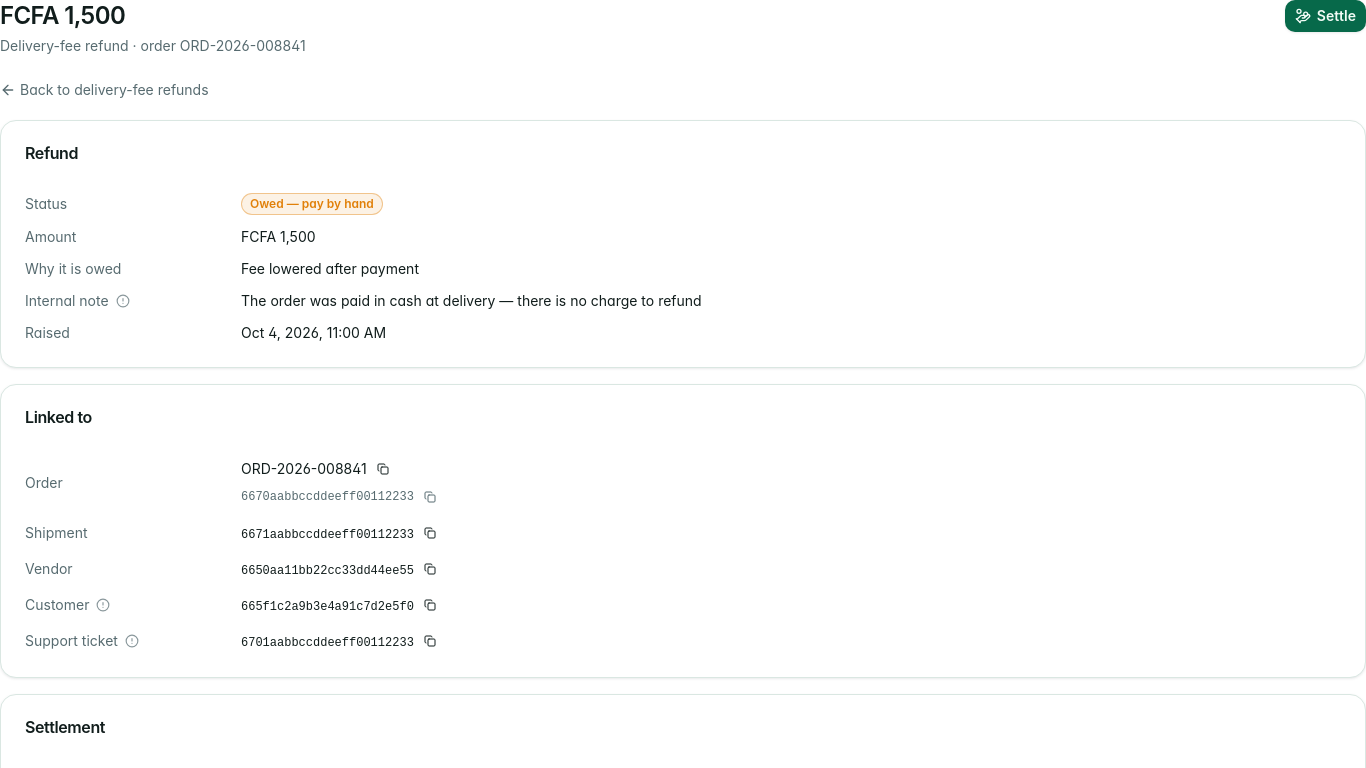
the detail › announces a remainder still owed, with a link to the new row
Click the button "Settle": click(1325, 16) [1285, 0, 1365, 32]
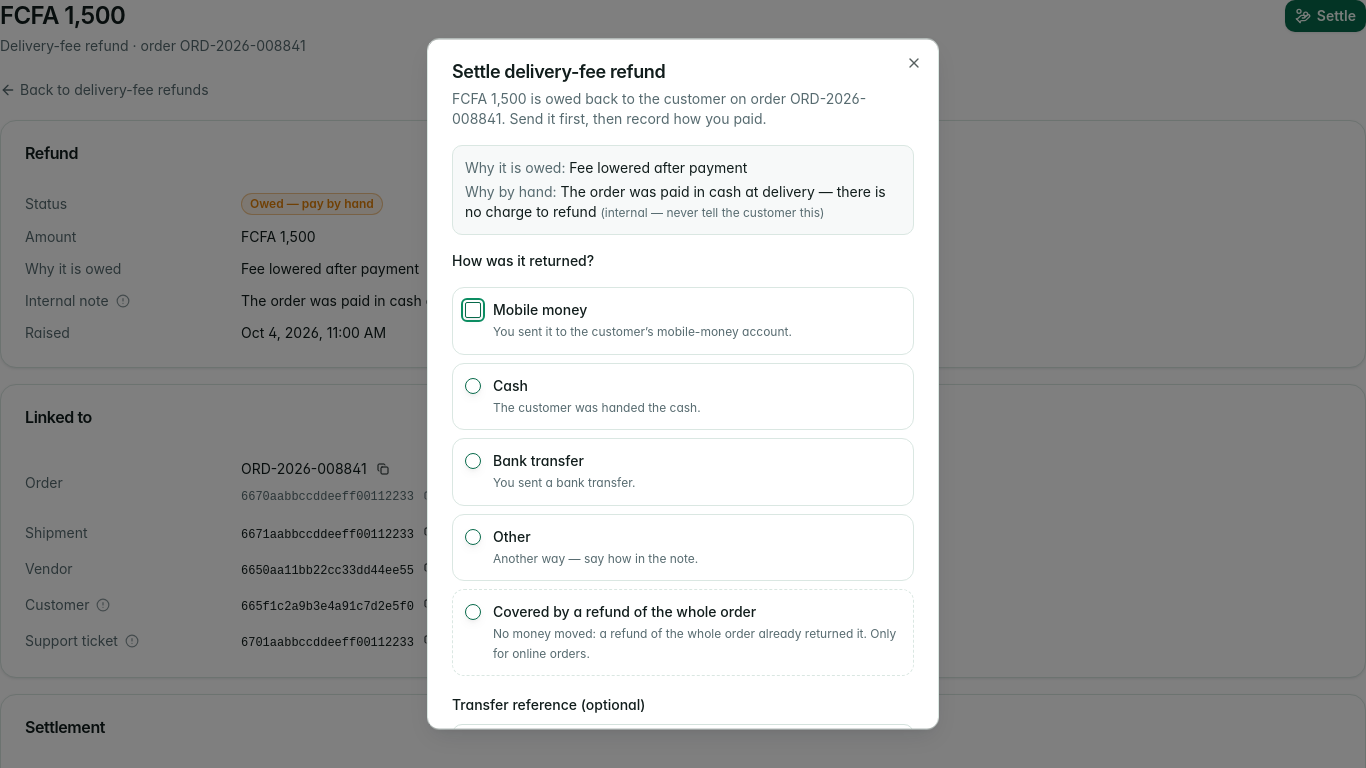
Click the radio button named "covered by a refund of the whole order" next to "Covered by a refund of the whole order": click(473, 612) [465, 604, 481, 620]
(page scrolled)
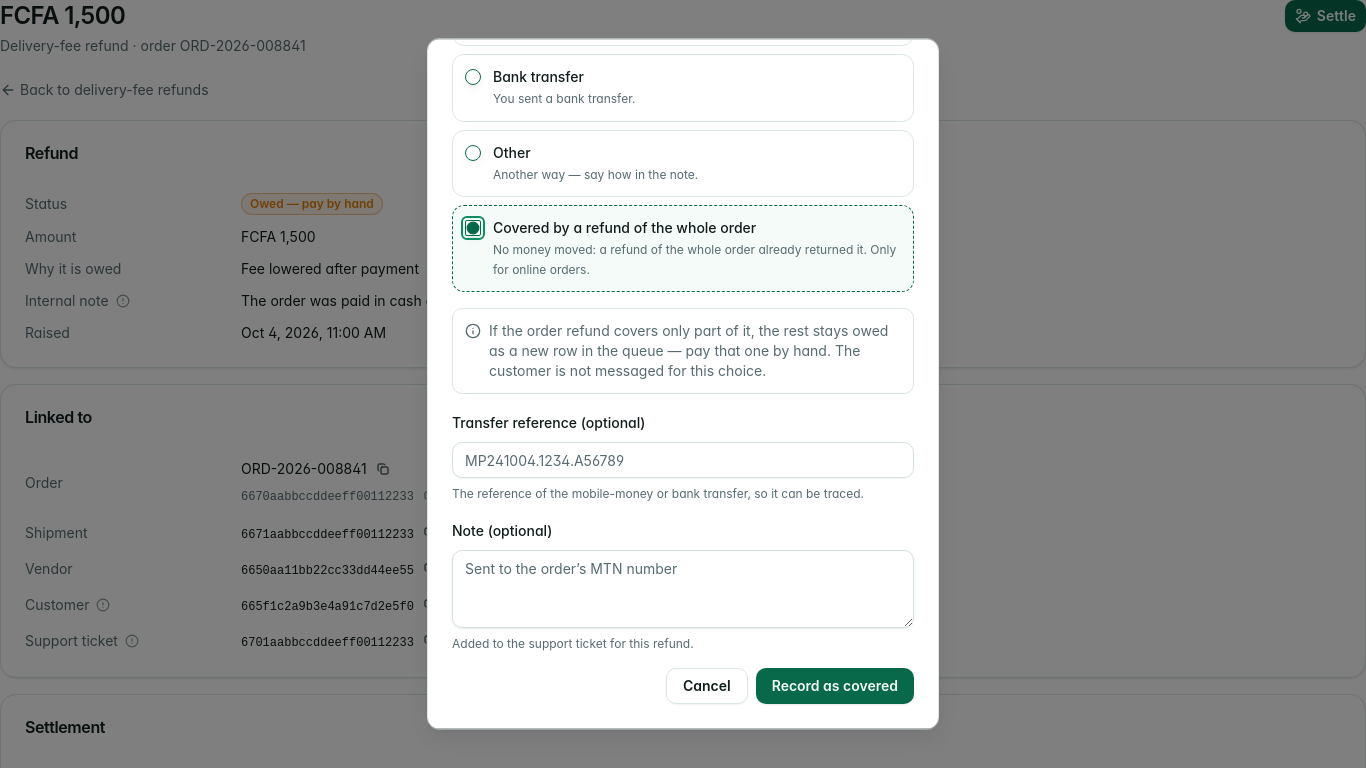
Click the button "Record as covered": click(835, 686) [756, 668, 914, 704]
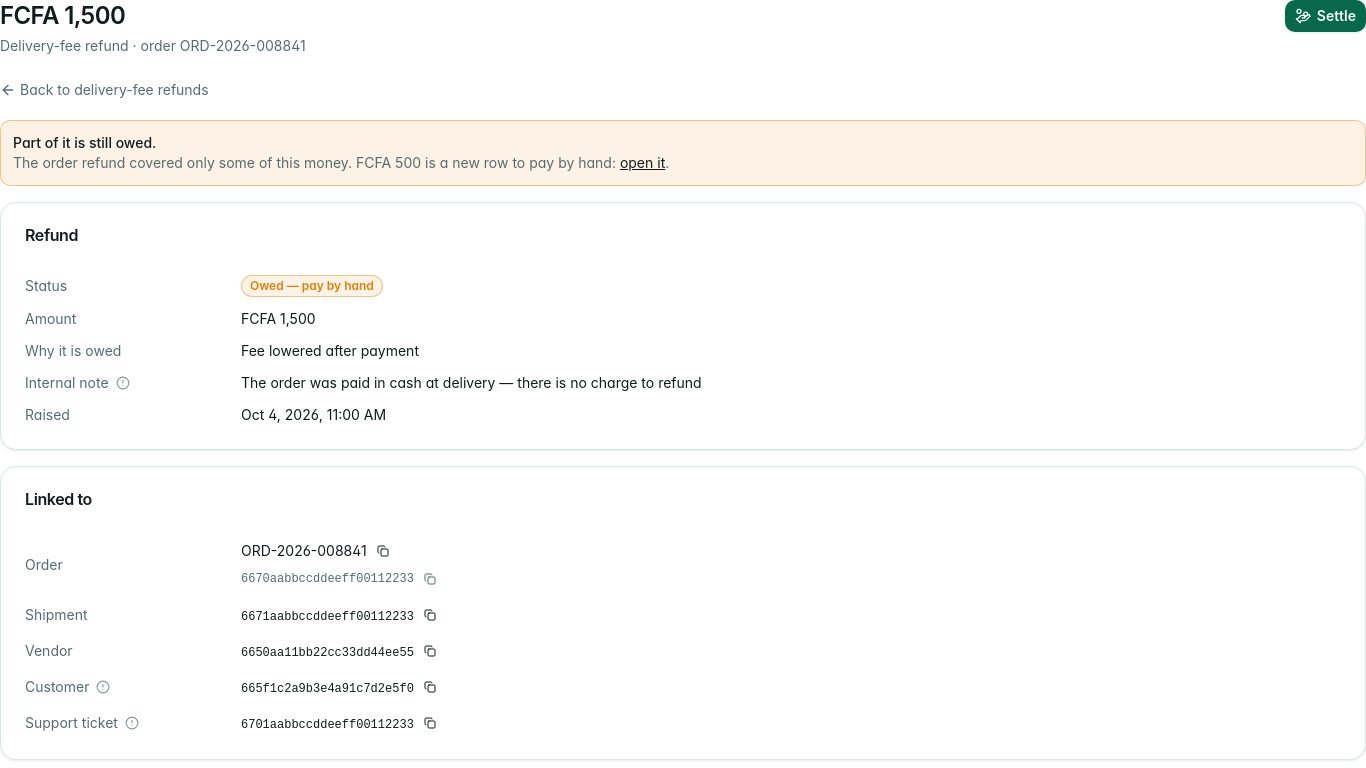
expect the text "Part of it is still owed." is shown: met, box [13, 134, 156, 151]
